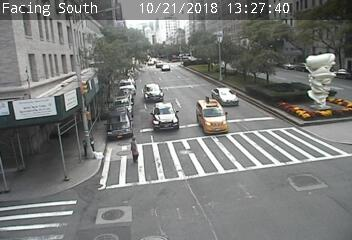car: (195, 99, 226, 134), (153, 102, 178, 131), (212, 88, 237, 108), (144, 83, 162, 103), (162, 64, 169, 71), (156, 62, 162, 68)
